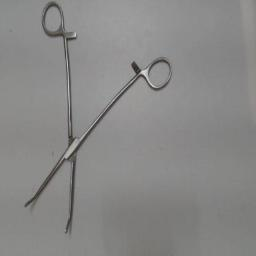Lahey Forceps: (18, 0, 182, 242)
